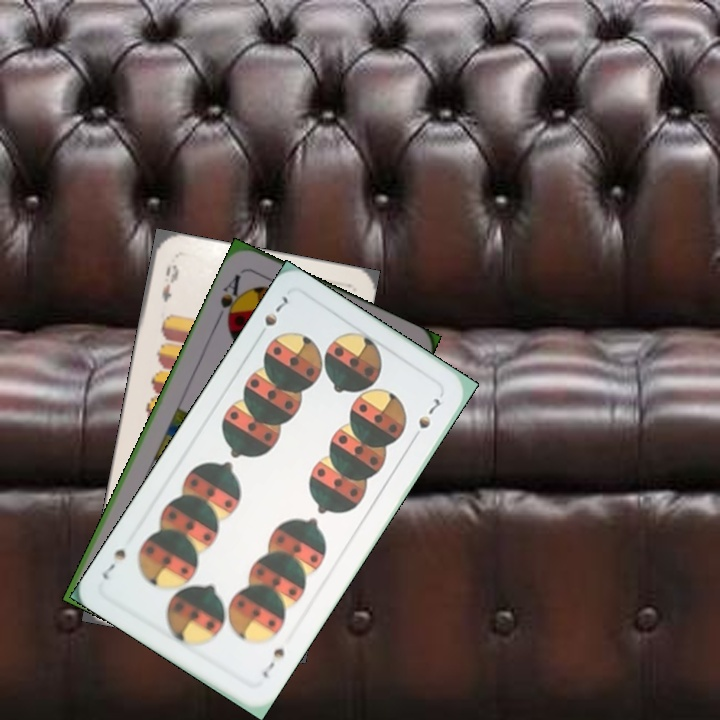E9: (157, 261, 182, 305)
S7: (260, 291, 291, 329), (258, 643, 288, 681)
SA: (213, 270, 248, 328)
